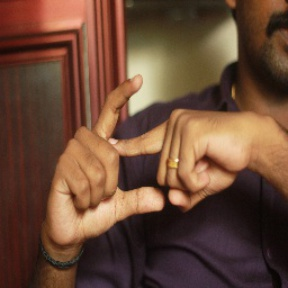E: (79, 76, 195, 224)
